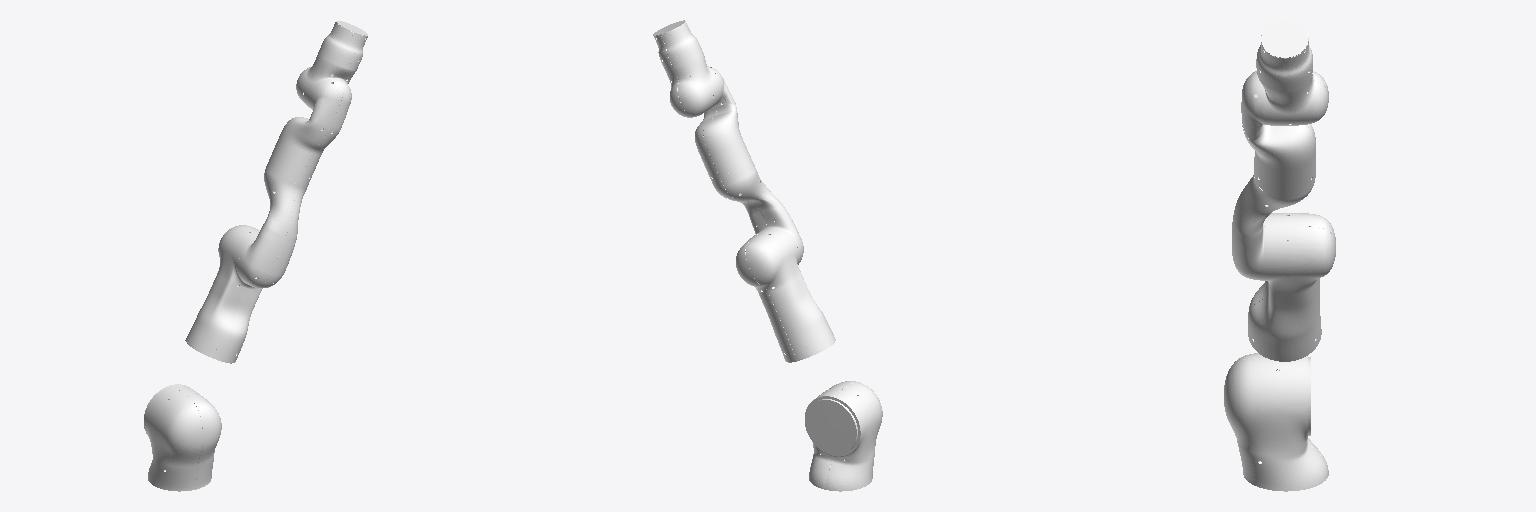
The robot description file, URDF, robot "optimo":
<?xml version="1.0" ?>
<robot name="optimo">
  <material name="white">
    <color rgba="1.0 1.0 1.0 1.0"/>
  </material>
  <link name="world"/>
  <joint name="world_to_link0" type="fixed">
    <parent link="world"/>
    <child link="link0"/>
    <origin rpy="0 0 0" xyz="0 0 .27"/>
  </joint>
  <link name="link0">
    <visual>
      <geometry>
        <mesh filename="meshes/J0_clean.stl"/>
      </geometry>
      <material name="white"/>
    </visual>
    <collision>
      <geometry>
        <mesh filename="meshes/col0.stl"/>
      </geometry>
    </collision>
    <inertial>
      <origin xyz="0 0 0"/>
      <mass value="1"/>
      <inertia ixx="0" ixy="0.0" ixz="0.0" iyy="0" iyz="0.0" izz="0"/>
    </inertial>
  </link>
  <joint name="joint1" type="revolute">
    <origin rpy="0 0 0" xyz="0 0 0"/>
    <parent link="link0"/>
    <child link="link1"/>
    <axis xyz="0 0 1"/>
    <limit effort="79" lower="-2.0943951012" upper="2.0943951012" velocity="10"/>
    <dynamics damping=".5" friction=".2"/>
  </joint>
  <link name="link1">
    <visual>
      <origin rpy="1.5707963267948966 0 0" xyz="0 0 0"/>
      <geometry>
        <mesh filename="meshes/J1_clean.stl"/>
      </geometry>
      <material name="white"/>
    </visual>
    <collision>
      <origin rpy="1.5707963267948966 0 0" xyz="0 0 0"/>
      <geometry>
        <mesh filename="meshes/col1.stl"/>
      </geometry>
    </collision>
    <inertial>
      <origin xyz="0 -0.01549 -0.01635 "/>
      <mass value="4.152"/>
      <inertia ixx="0.01" ixy="0" ixz="0" iyy="0.01" iyz="0" izz="0.006"/>
    </inertial>
  </link>
  <joint name="joint2" type="revolute">
    <origin rpy="1.5707963267948966 0 0" xyz="0 0 0"/>
    <parent link="link1"/>
    <child link="link2"/>
    <axis xyz="0 0 1"/>
    <limit effort="95" lower="1.13446401315" upper="4.2" velocity="10"/>
    <dynamics damping=".5" friction=".2"/>
  </joint>
  <link name="link2">
    <visual>
      <origin rpy="1.5707963267948966 0 0" xyz="0 0 0.003"/>
      <geometry>
        <mesh filename="meshes/J2_clean.stl"/>
      </geometry>
      <material name="white"/>
    </visual>
    <collision>
      <origin rpy="1.5707963267948966 0 0" xyz="0 0 0"/>
      <geometry>
        <mesh filename="meshes/col2.stl"/>
      </geometry>
    </collision>
    <inertial>
      <origin xyz="0 -0.05677 -0.05063 "/>
      <mass value="1.72"/>
      <inertia ixx="0.004" ixy="0" ixz="0" iyy="0.003" iyz="0" izz="0.005"/>
    </inertial>
  </link>
  <joint name="joint3" type="revolute">
    <origin rpy="1.5707963267948966 0 0" xyz="0.0 -0.397 0.003"/>
    <parent link="link2"/>
    <child link="link3"/>
    <axis xyz="0 0 1"/>
    <limit effort="32" lower="-2.0943951012" upper="2.0943951012" velocity="10"/>
    <dynamics damping=".5" friction=".2"/>
  </joint>
  <link name="link3">
    <visual>
      <origin rpy="-1.5707963267948966 0 0" xyz="0 0 0"/>
      <geometry>
        <mesh filename="meshes/J3_clean.stl"/>
      </geometry>
      <material name="white"/>
    </visual>
    <collision>
      <origin rpy="-1.5707963267948966 0 0" xyz="0 0 0"/>
      <geometry>
        <mesh filename="meshes/col3.stl"/>
      </geometry>
    </collision>
    <inertial>
      <origin xyz="0 0 -0.098"/>
      <mass value="4.310"/>
      <inertia ixx="0.013" ixy="0" ixz="0" iyy="0.013" iyz="0" izz="0.003"/>
    </inertial>
  </link>
  <joint name="joint4" type="revolute">
    <origin rpy="-1.5707963267948966 0 0" xyz="0 0 0"/>
    <parent link="link3"/>
    <child link="link4"/>
    <axis xyz="0 0 1"/>
    <limit effort="40" lower="-2.4434609514" upper="0.7" velocity="10"/>
    <dynamics damping=".5" friction=".2"/>
  </joint>
  <link name="link4">
    <visual>
      <origin rpy="1.5707963267948966 0 0" xyz="0 0 0"/>
      <geometry>
        <mesh filename="meshes/J4_clean.stl"/>
      </geometry>
      <material name="white"/>
    </visual>
    <collision>
      <origin rpy="1.5707963267948966 0 0" xyz="0 0 0"/>
      <geometry>
        <mesh filename="meshes/col4.stl"/>
      </geometry>
    </collision>
    <inertial>
      <origin xyz="-.00001 -0.0688 0.048852"/>
      <mass value="1.09"/>
      <inertia ixx="0.004" ixy="0" ixz="0" iyy="0.0008" iyz="0" izz="0.004"/>
    </inertial>
  </link>
  <joint name="joint5" type="revolute">
    <origin rpy="1.5707963267948966 0 0" xyz="0 -0.4 0"/>
    <parent link="link4"/>
    <child link="link5"/>
    <axis xyz="0 0 1"/>
    <limit effort="15" lower="-2.6179938765" upper="2.6179938765" velocity="10"/>
    <dynamics damping=".5" friction=".2"/>
  </joint>
  <link name="link5">
    <visual>
      <origin rpy="-1.5707963267948966 0 0" xyz="0 0 0"/>
      <geometry>
        <mesh filename="meshes/J5_clean.stl"/>
      </geometry>
      <material name="white"/>
    </visual>
    <collision>
      <origin rpy="-1.5707963267948966 0 0" xyz="0 0 0"/>
      <geometry>
        <mesh filename="meshes/col5.stl"/>
      </geometry>
    </collision>
    <inertial>
      <origin xyz="0 0.008 -.085"/>
      <mass value="2.23"/>
      <inertia ixx="0.005" ixy="0" ixz="0" iyy="0.005" iyz="0" izz="0.002"/>
    </inertial>
  </link>
  <joint name="joint6" type="revolute">
    <origin rpy="-1.5707963267948966 0 0" xyz="0 0 0"/>
    <parent link="link5"/>
    <child link="link6"/>
    <axis xyz="0 0 1"/>
    <limit effort="15" lower="-2.00712863865" upper="2.00712863865" velocity="10"/>
    <dynamics damping=".5" friction=".2"/>
  </joint>
  <link name="link6">
    <visual>
      <origin rpy="1.5707963267948966 0 0" xyz="0 0 0"/>
      <geometry>
        <mesh filename="meshes/J6_clean.stl"/>
      </geometry>
      <material name="white"/>
    </visual>
    <collision>
      <origin rpy="1.5707963267948966 0 0" xyz="0 0 0"/>
      <geometry>
        <mesh filename="meshes/col6.stl"/>
      </geometry>
    </collision>
    <inertial>
      <origin xyz="0  -0.010855 0"/>
      <mass value="1.138"/>
      <inertia ixx="0.0006" ixy="0" ixz="0" iyy="0.0006" iyz="0" izz="0.0005"/>
    </inertial>
  </link>
  <joint name="joint7" type="revolute">
    <origin rpy="1.5707963267948966 0 0" xyz="0 0 0"/>
    <parent link="link6"/>
    <child link="link7"/>
    <axis xyz="0 0 1"/>
    <limit effort="15" lower="-2.0943951012" upper="2.0943951012" velocity="10"/>
    <dynamics damping=".5" friction=".2"/>
  </joint>
  <link name="link7">
    <visual>
      <origin xyz="0.0 0.0 0.011"/>
      <geometry>
        <mesh filename="meshes/J7_clean.stl"/>
      </geometry>
      <material name="white"/>
    </visual>
    <collision>
      <geometry>
        <mesh filename="meshes/col7.stl"/>
      </geometry>
    </collision>
    <inertial>
      <origin xyz="0 0 0.0"/>
      <mass value=".88"/>
      <inertia ixx="0.0007" ixy="0" ixz="0" iyy="0.0007" iyz="0" izz="0.0003"/>
    </inertial>
  </link>
  <joint name = "joint8" type="fixed">
    <origin xyz="0.0 0.0 0.15"/>
    <parent link="link7"/>
    <child link="link8"/>
    <axis xyz="0 0 1"/>
  </joint>
  <link name="link8">
  </link>
</robot>

--- Render facts (derived) ---
Views: 3 orthographic renders of the robot side by side, from view 1: azimuth 30°, elevation 25°; view 2: azimuth 150°, elevation 25°; view 3: azimuth 270°, elevation 25°.
Robot: optimo — 10 links, 9 joints (7 revolute, 2 fixed); root link world; default pose: all joints at 0 but 1 set to mid-range because 0 is outside their limits (joint2 = 2.67).
Visible links, largest first — view 1: link1, link3, link5, link4, link7, link6; view 2: link3, link1, link5, link4, link6, link7; view 3: link1, link3, link5, link7, link4, link6.
Boxes of the visible links, x1,y1,x2,y2 form: link1: (144, 384, 221, 491); link3: (185, 225, 261, 363); link5: (266, 78, 351, 185); link4: (238, 169, 307, 288); link7: (318, 21, 367, 69); link6: (296, 53, 356, 109); link3: (736, 227, 835, 362); link1: (805, 381, 882, 491); link5: (695, 66, 754, 186); link4: (714, 168, 803, 264); link6: (665, 53, 722, 117); link7: (653, 20, 702, 69); link1: (1224, 353, 1328, 491); link3: (1248, 213, 1335, 361); link5: (1241, 71, 1315, 198); link7: (1256, 21, 1312, 91); link4: (1232, 175, 1314, 280); link6: (1258, 71, 1328, 125).
Bounding box of the posed robot: 0.5409 × 0.1838 × 1 m (x, y, z).
Meshes: 8 distinct files referenced, 6 mesh visuals loaded (6 binary STL); not drawn: 2 (reference not matched to a file when rendering).
